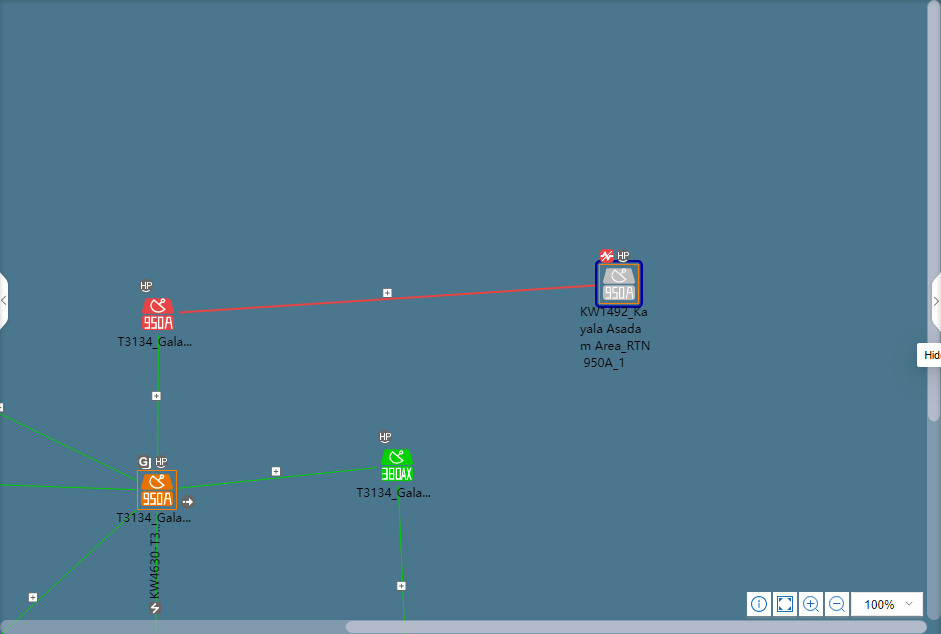Link_Green: (1, 510, 137, 634), (0, 412, 136, 481), (178, 465, 377, 490), (397, 486, 406, 621), (0, 484, 135, 491), (156, 335, 161, 470), (154, 511, 158, 634)
Link_Red: (178, 284, 594, 315)
RTN_Gray: (600, 267, 635, 302)
RTN_Green: (381, 450, 412, 481)
RTN_Orange: (138, 473, 175, 508)
RTN_Red: (142, 299, 173, 330)
